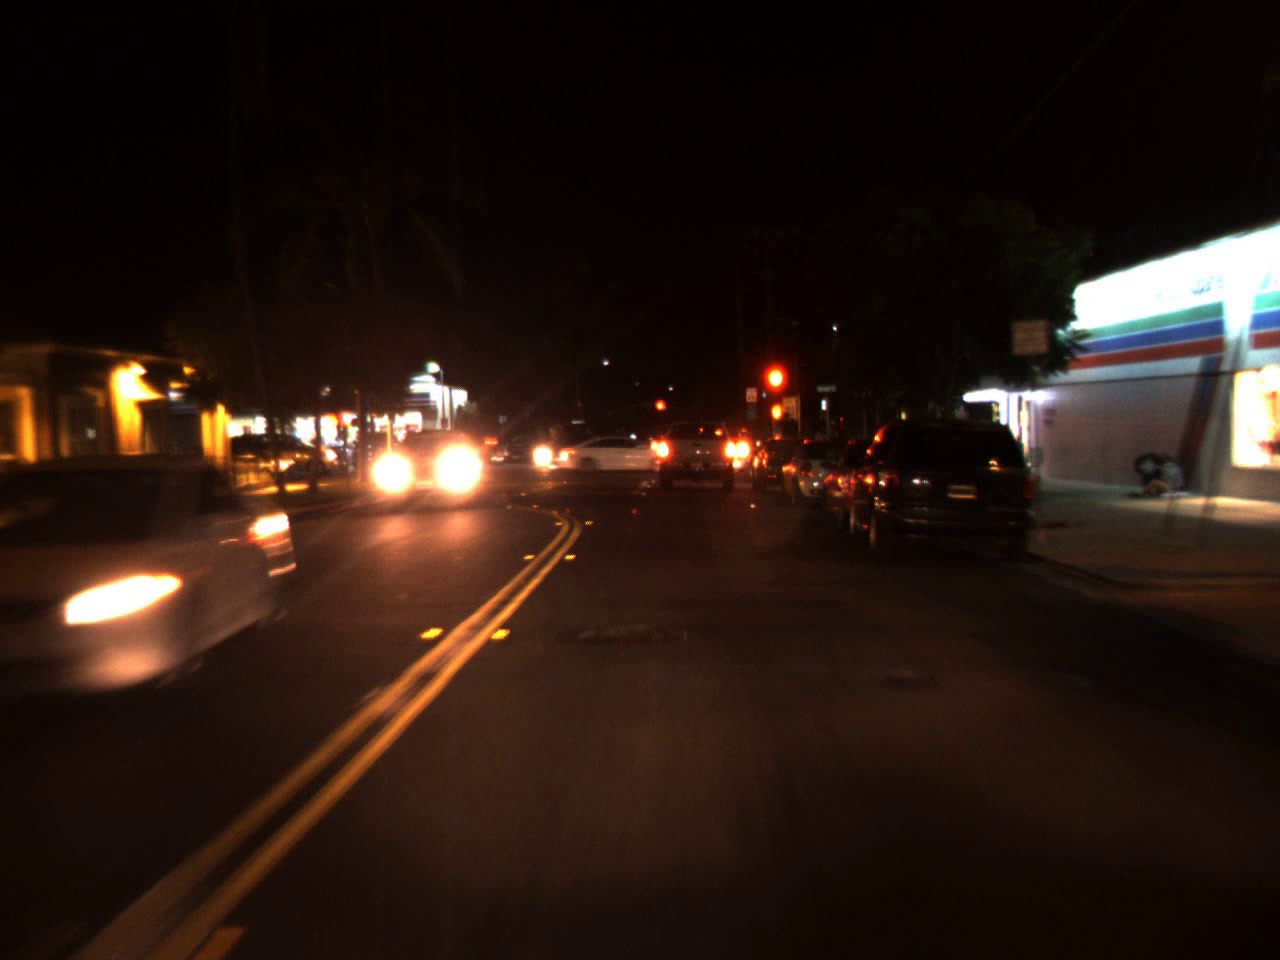stop: (758, 359, 792, 429), (653, 397, 666, 424)
